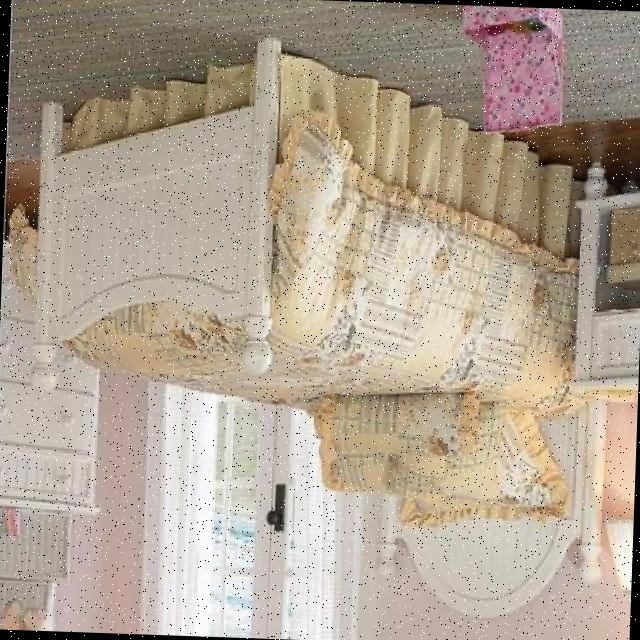Bed: (14, 26, 626, 625)
